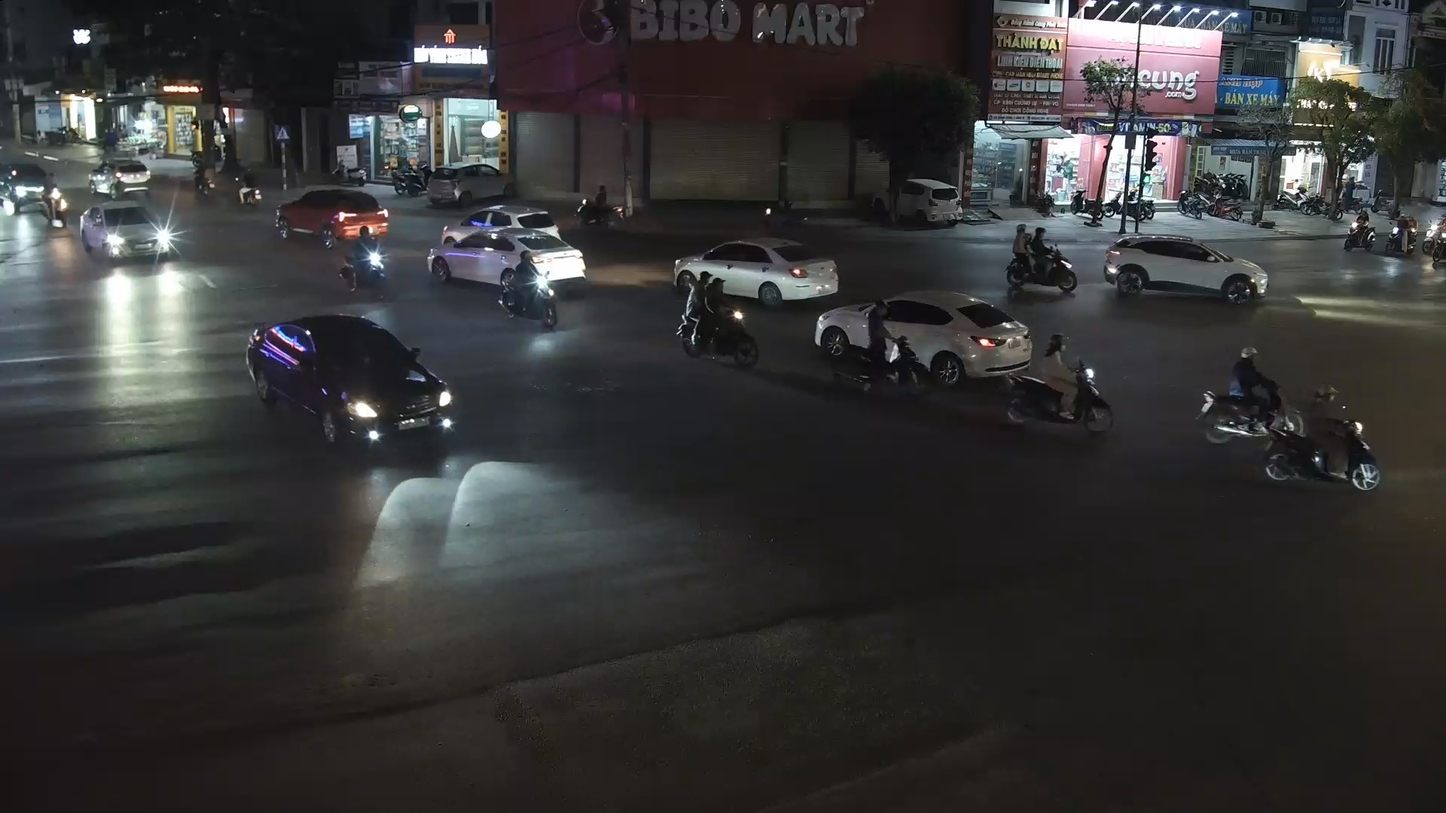car: (244, 310, 457, 450), (812, 290, 1035, 384), (428, 201, 589, 294), (1102, 230, 1270, 305), (670, 234, 842, 307), (271, 183, 391, 247), (77, 196, 170, 268)
motorbike: (1259, 383, 1383, 492), (1001, 330, 1116, 436), (1195, 345, 1300, 448), (837, 299, 934, 396), (676, 272, 761, 368), (1003, 221, 1079, 300), (496, 248, 560, 329), (339, 224, 394, 297)
